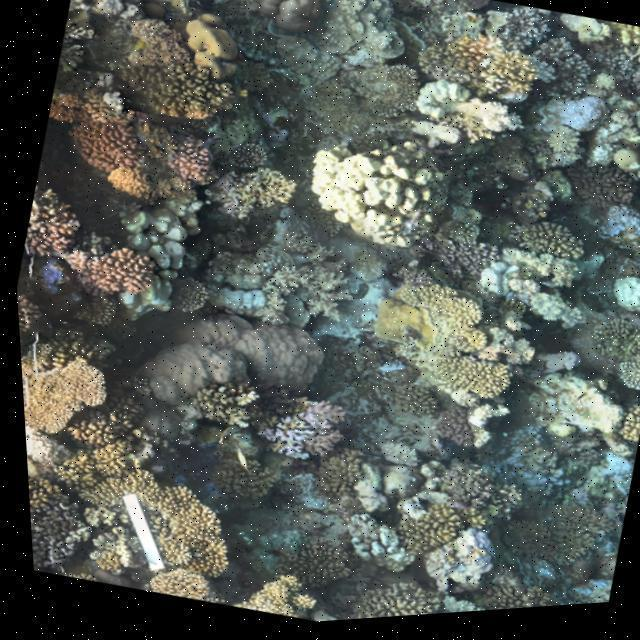Bleached Coral: (276, 124, 458, 274), (85, 180, 215, 344), (458, 236, 601, 350), (506, 343, 628, 468), (513, 79, 640, 190), (391, 72, 523, 170), (334, 428, 450, 536), (394, 511, 508, 619), (313, 499, 412, 586), (470, 431, 568, 518), (245, 384, 332, 479), (190, 258, 282, 336), (378, 584, 494, 622), (574, 200, 640, 264), (18, 402, 68, 485), (568, 446, 632, 508), (593, 276, 640, 352), (546, 15, 622, 58), (65, 0, 149, 33), (621, 66, 640, 178), (90, 83, 138, 124)
